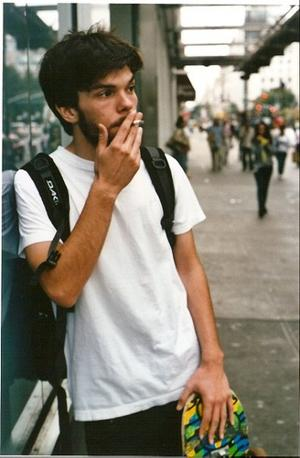person: (14, 27, 265, 458)
